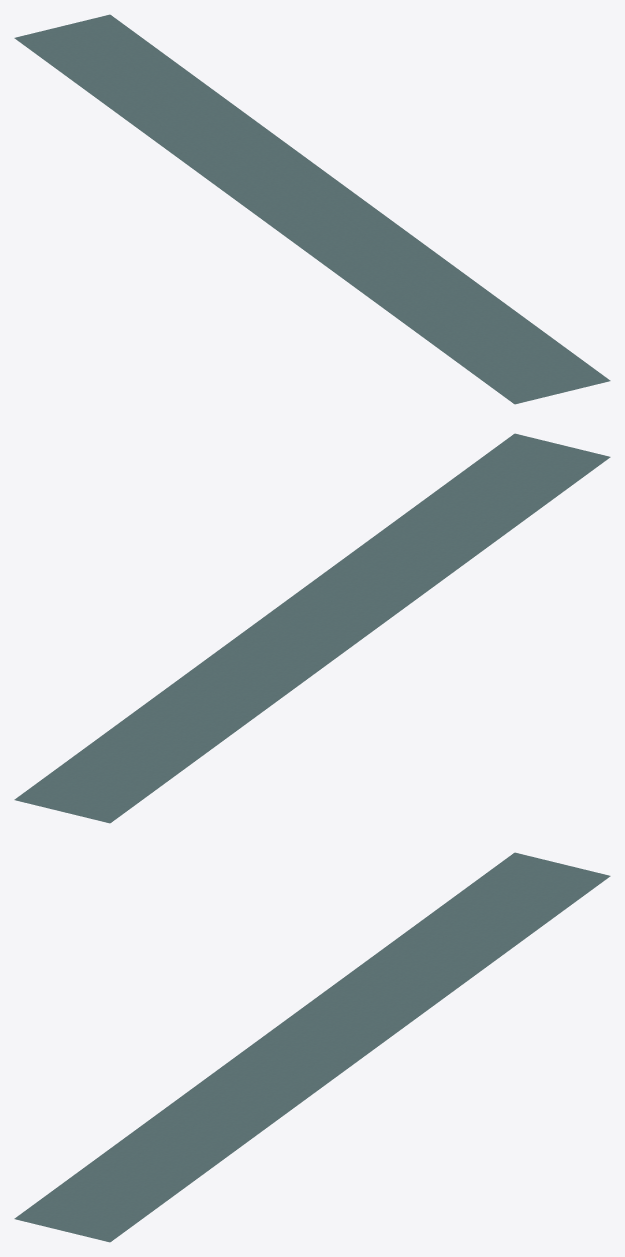
The model's file is SM_Carpet_L.fbx.
The picture shows the model from 3 angles, top to bottom: view 1: azimuth 30°, elevation 25°; view 2: azimuth 150°, elevation 25°; view 3: azimuth 330°, elevation 25°; orthographic projection.
Parts seen in each view (by area): view 1: SM_Carpet_L; view 2: SM_Carpet_L; view 3: SM_Carpet_L.
Boxes of the visible parts, x1,y1,x2,y2 form: SM_Carpet_L: (14, 14, 610, 404); SM_Carpet_L: (14, 433, 610, 823); SM_Carpet_L: (14, 852, 610, 1242).
Size of the model in its own units: 179 by 0 by 1611.
1 material, 1 textured.
